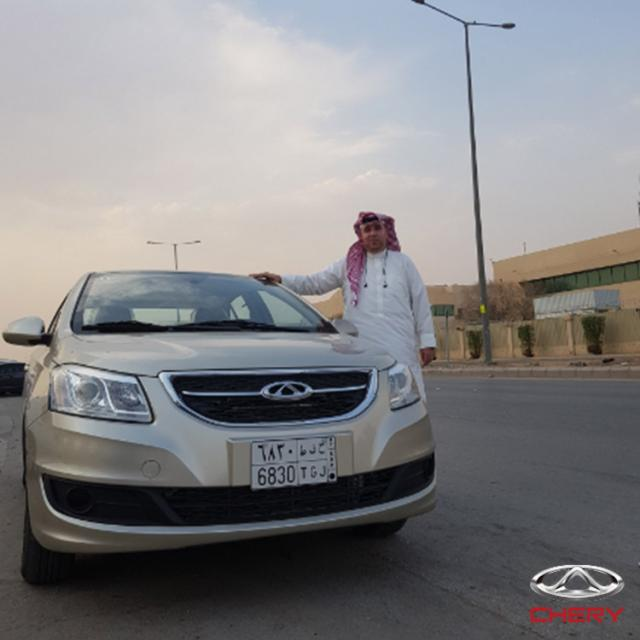license_plate: (247, 433, 341, 493)
